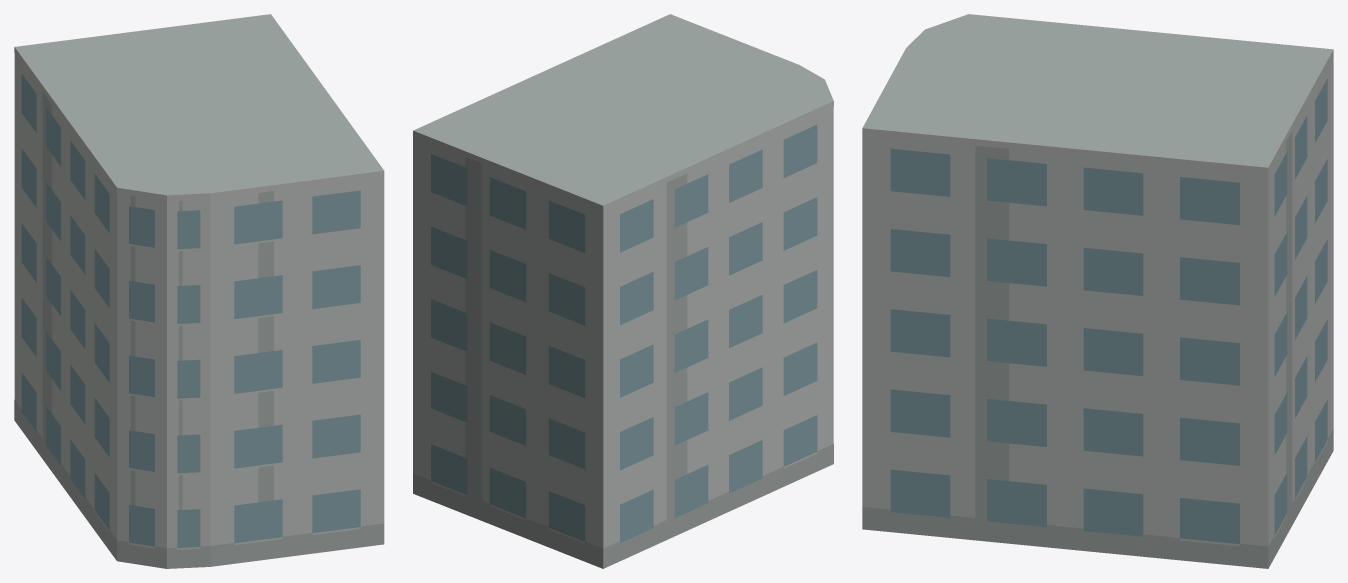
File: survey-upis-32670169.glb
The picture shows the model from 3 angles, left to right: view 1: azimuth 30°, elevation 25°; view 2: azimuth 150°, elevation 25°; view 3: azimuth 270°, elevation 25°; orthographic projection. The views are drawn at different scales.
Visible parts, largest first — view 1: survey-upis-32670169.tmp; view 2: survey-upis-32670169.tmp; view 3: survey-upis-32670169.tmp.
Part boxes in pixels (x1=…): survey-upis-32670169.tmp: x1=14, y1=14, x2=384, y2=568; survey-upis-32670169.tmp: x1=413, y1=14, x2=833, y2=568; survey-upis-32670169.tmp: x1=862, y1=14, x2=1333, y2=568.
Bounding box in the file's own units: 12.54 × 15.25 × 16.25.
